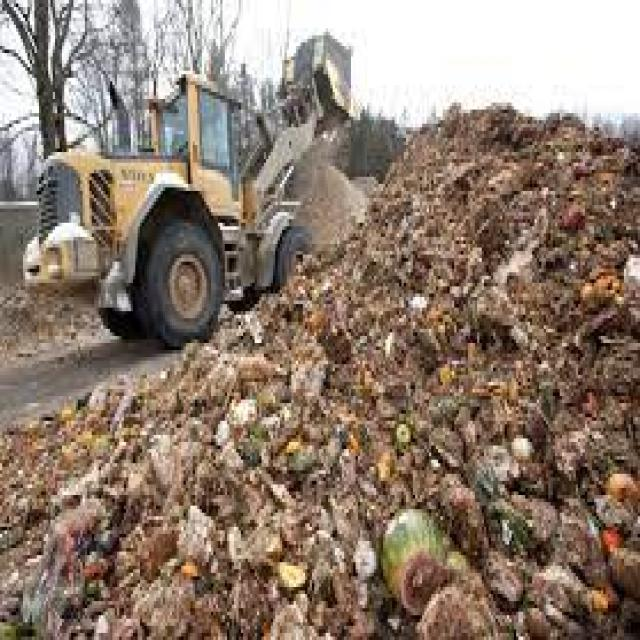Wet: (0, 427, 640, 640), (392, 188, 640, 640), (429, 139, 640, 639), (374, 455, 465, 618)
